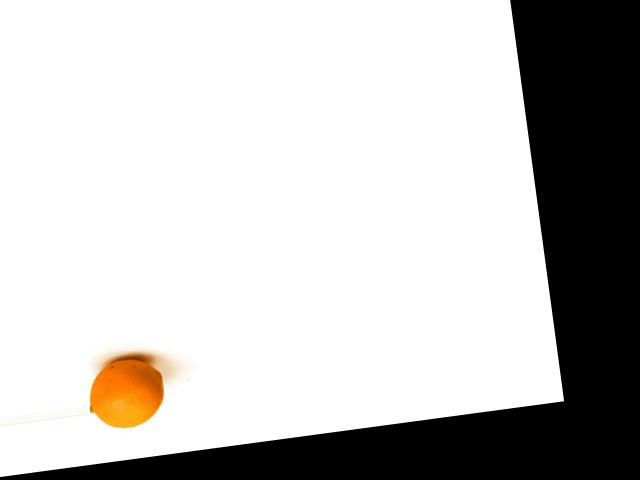lemon: (82, 343, 177, 433)
